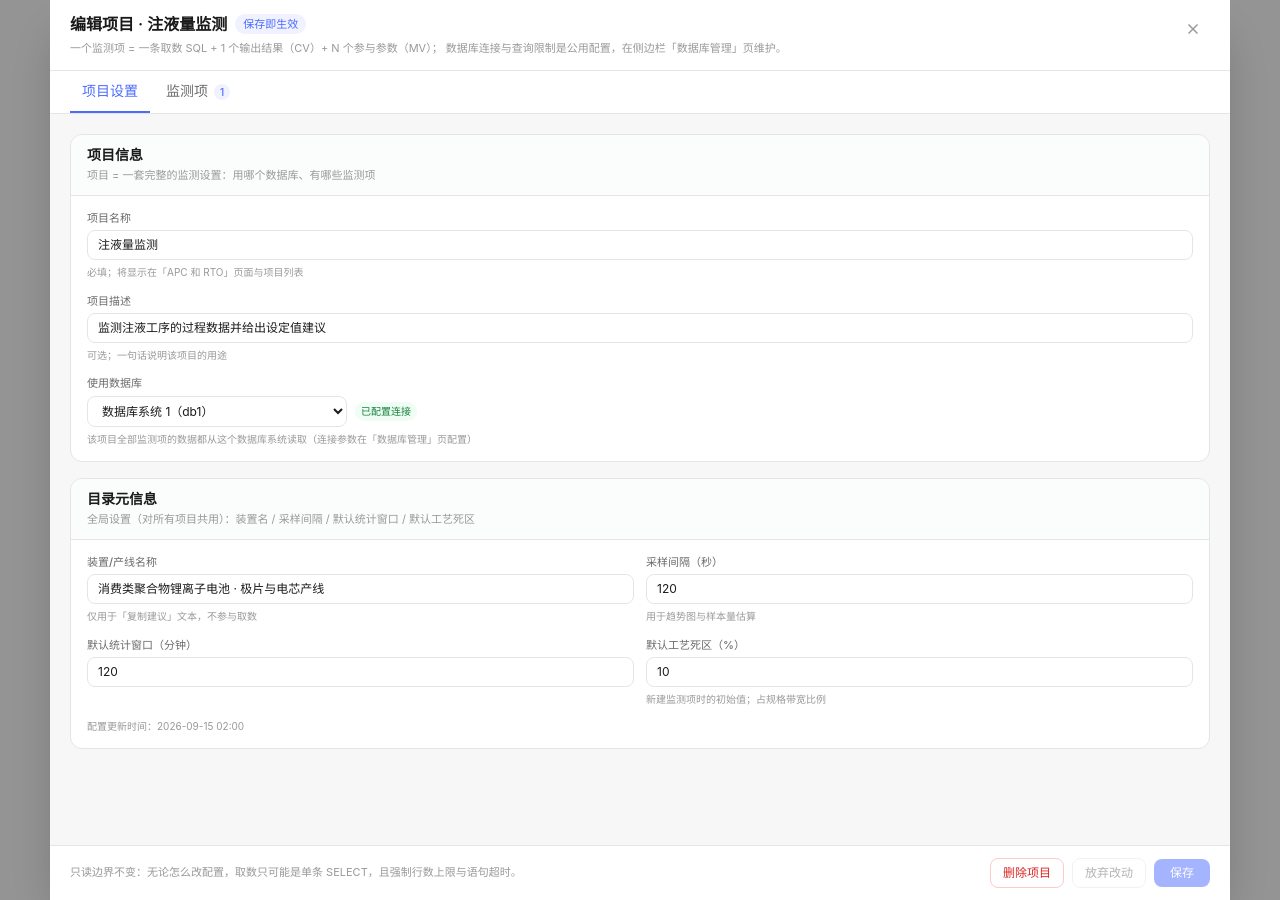
Test case: ApcConfigPanel · 监测项 › 左侧列出监测项，右侧回显取数 SQL、时间戳列与输出结果（CV）
Expected: the field showing "注液量监测" is shown, x1=87 y1=230 x2=1193 y2=260
Step 1. Click the button "监测项1" → (198, 92), box x1=154 y1=71 x2=242 y2=114
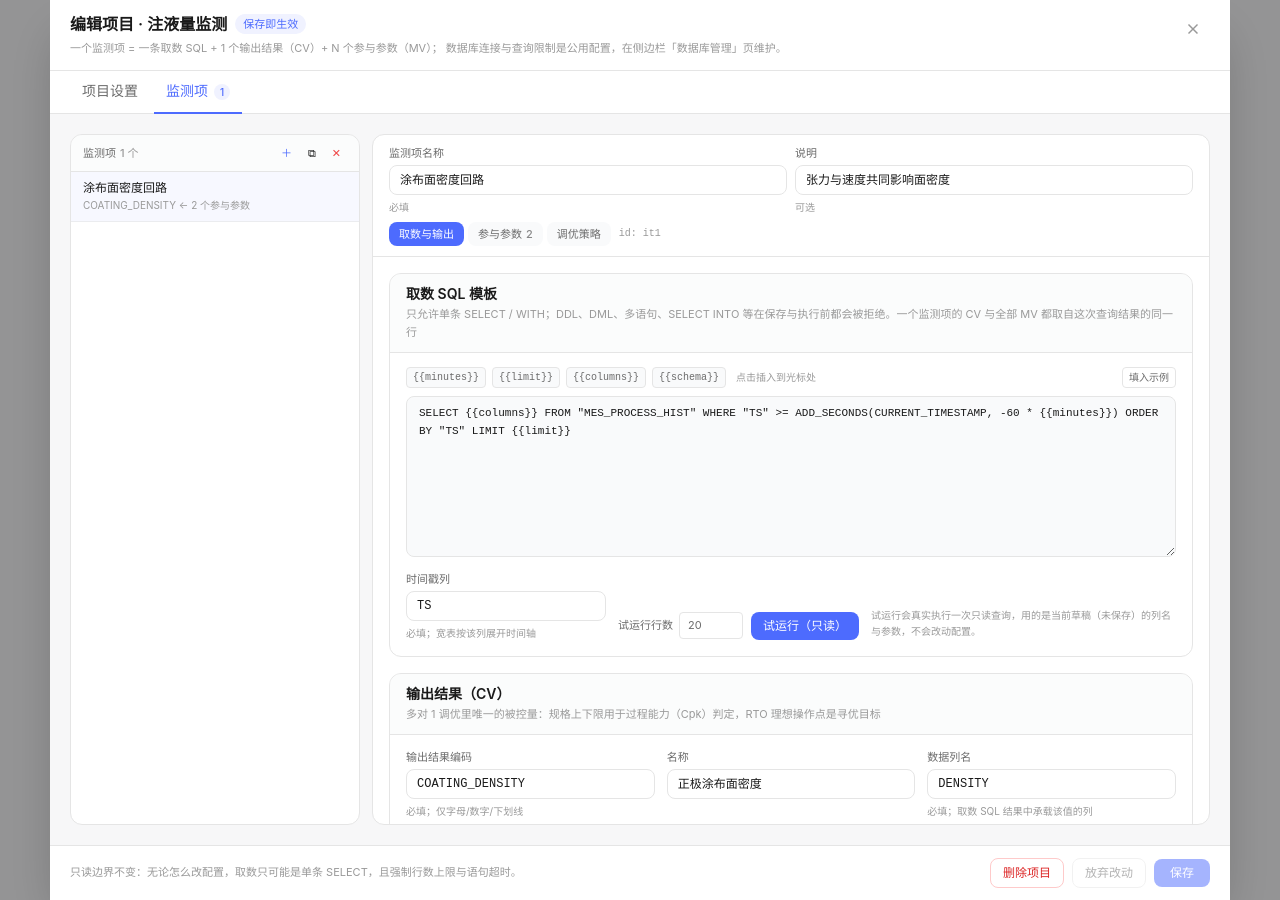
Now the text "涂布面密度回路" is shown, box x1=83 y1=180 x2=167 y2=196
Now the text "COATING_DENSITY ← 2 个参与参数" is shown, box x1=83 y1=199 x2=250 y2=211
Now the text box showing "MES_PROCESS_HIST" is shown, box x1=406 y1=396 x2=1176 y2=557
